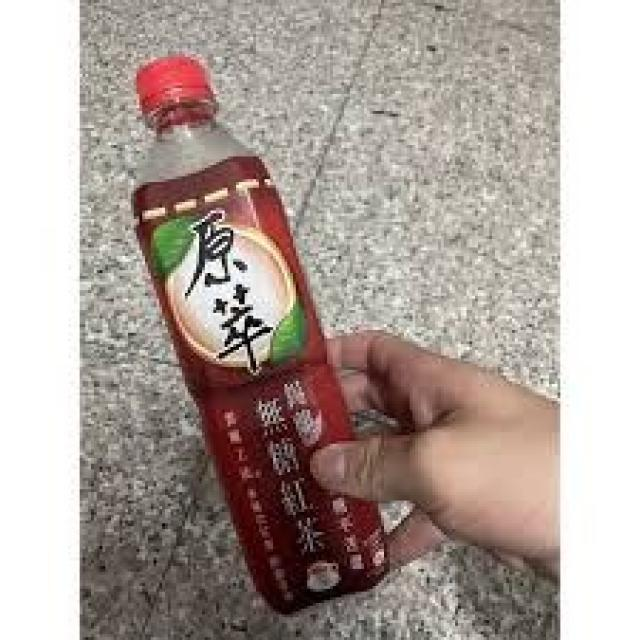YuanTsui_BlackTea: (128, 55, 413, 633)
